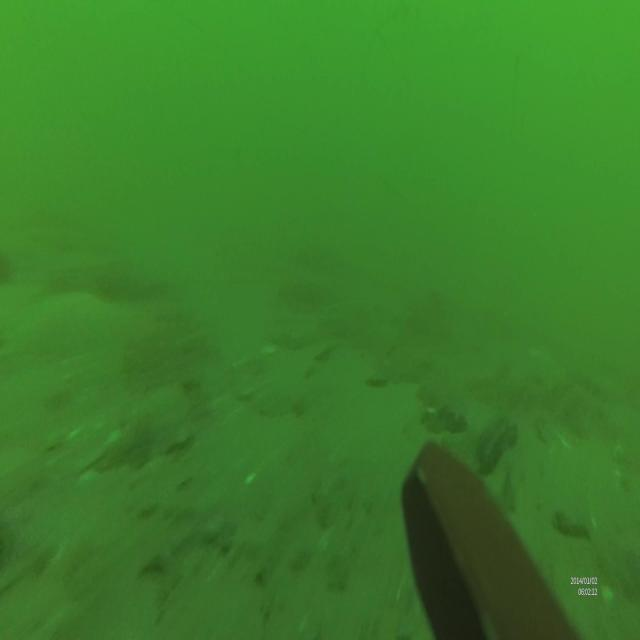starfish: (0, 285, 160, 404)
